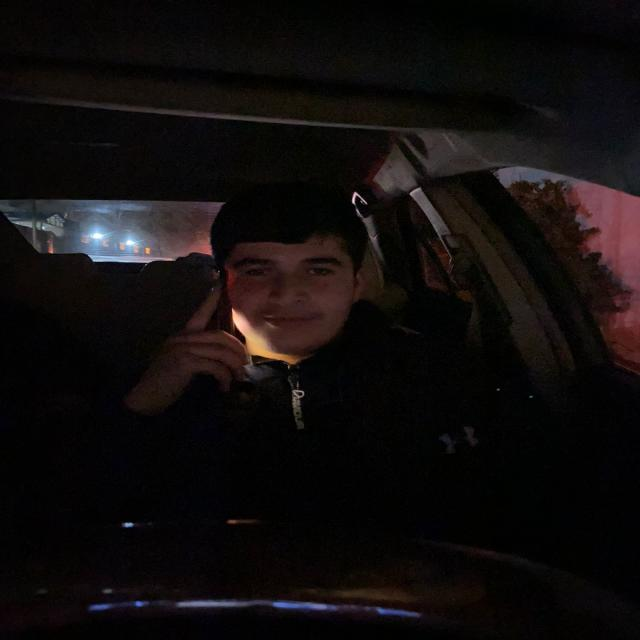mobile: (206, 262, 240, 334)
person: (206, 179, 390, 373)
